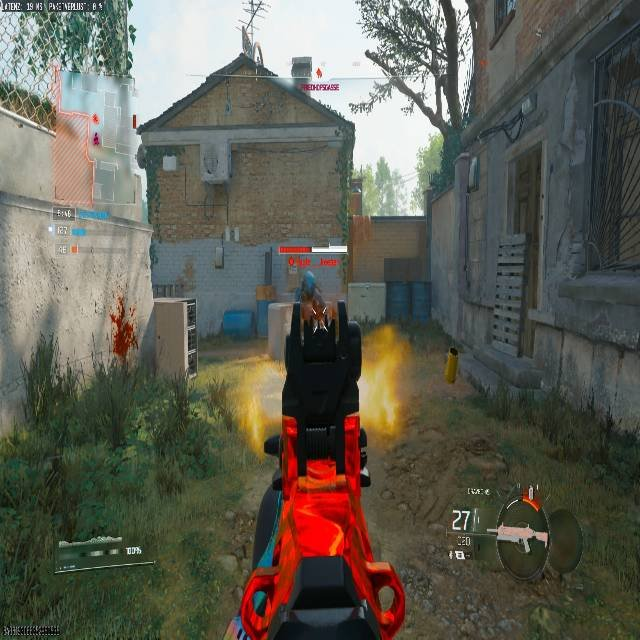head: (301, 273, 319, 296), (303, 270, 314, 286)
player: (300, 270, 326, 332)
